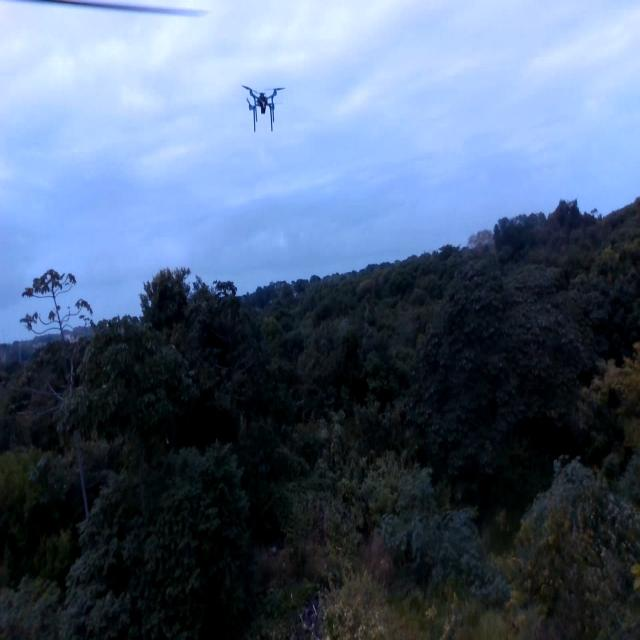-uav-: (232, 66, 300, 138)
